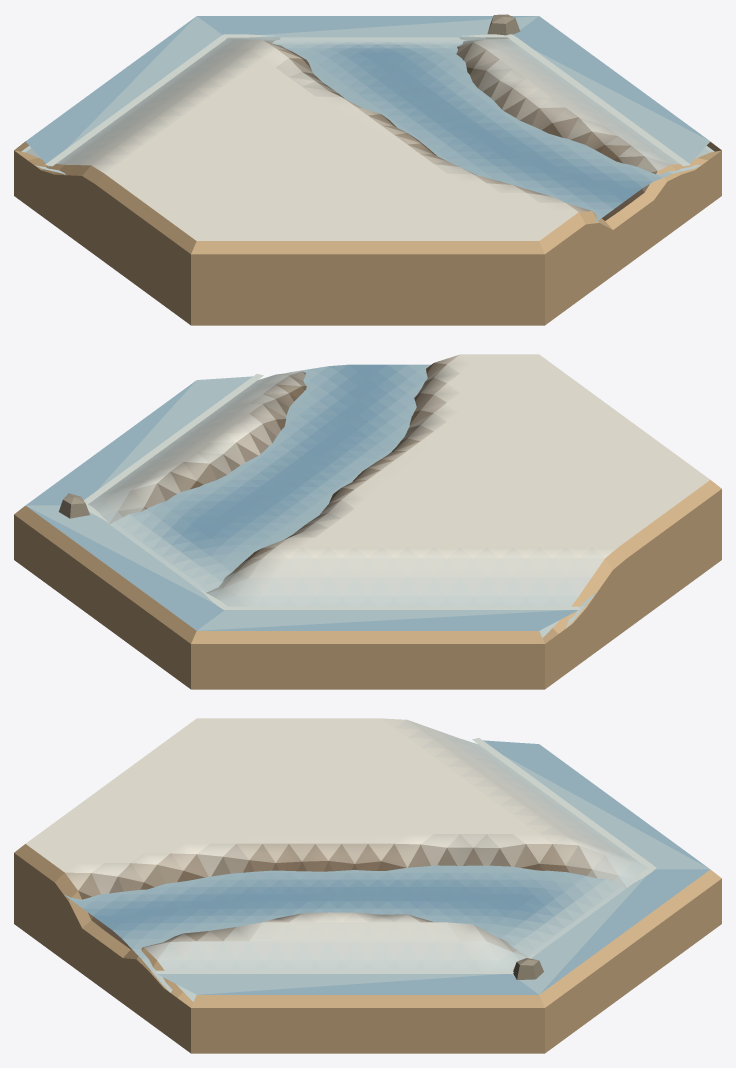
File: estuary_sea3_edge5_snow.fbx
3 renders of one model, top to bottom at view 1: azimuth 30°, elevation 25°; view 2: azimuth 150°, elevation 25°; view 3: azimuth 270°, elevation 25°, orthographic.
Parts seen in each view (by area): view 1: estuary_sea3_edge5_snow; view 2: estuary_sea3_edge5_snow; view 3: estuary_sea3_edge5_snow.
Part boxes in pixels (x1,y1,x2,y2): estuary_sea3_edge5_snow: (14, 14, 721, 325); estuary_sea3_edge5_snow: (14, 354, 721, 689); estuary_sea3_edge5_snow: (14, 718, 721, 1053).
Bounding box in the file's own units: 1.74 × 0.25 × 2.
